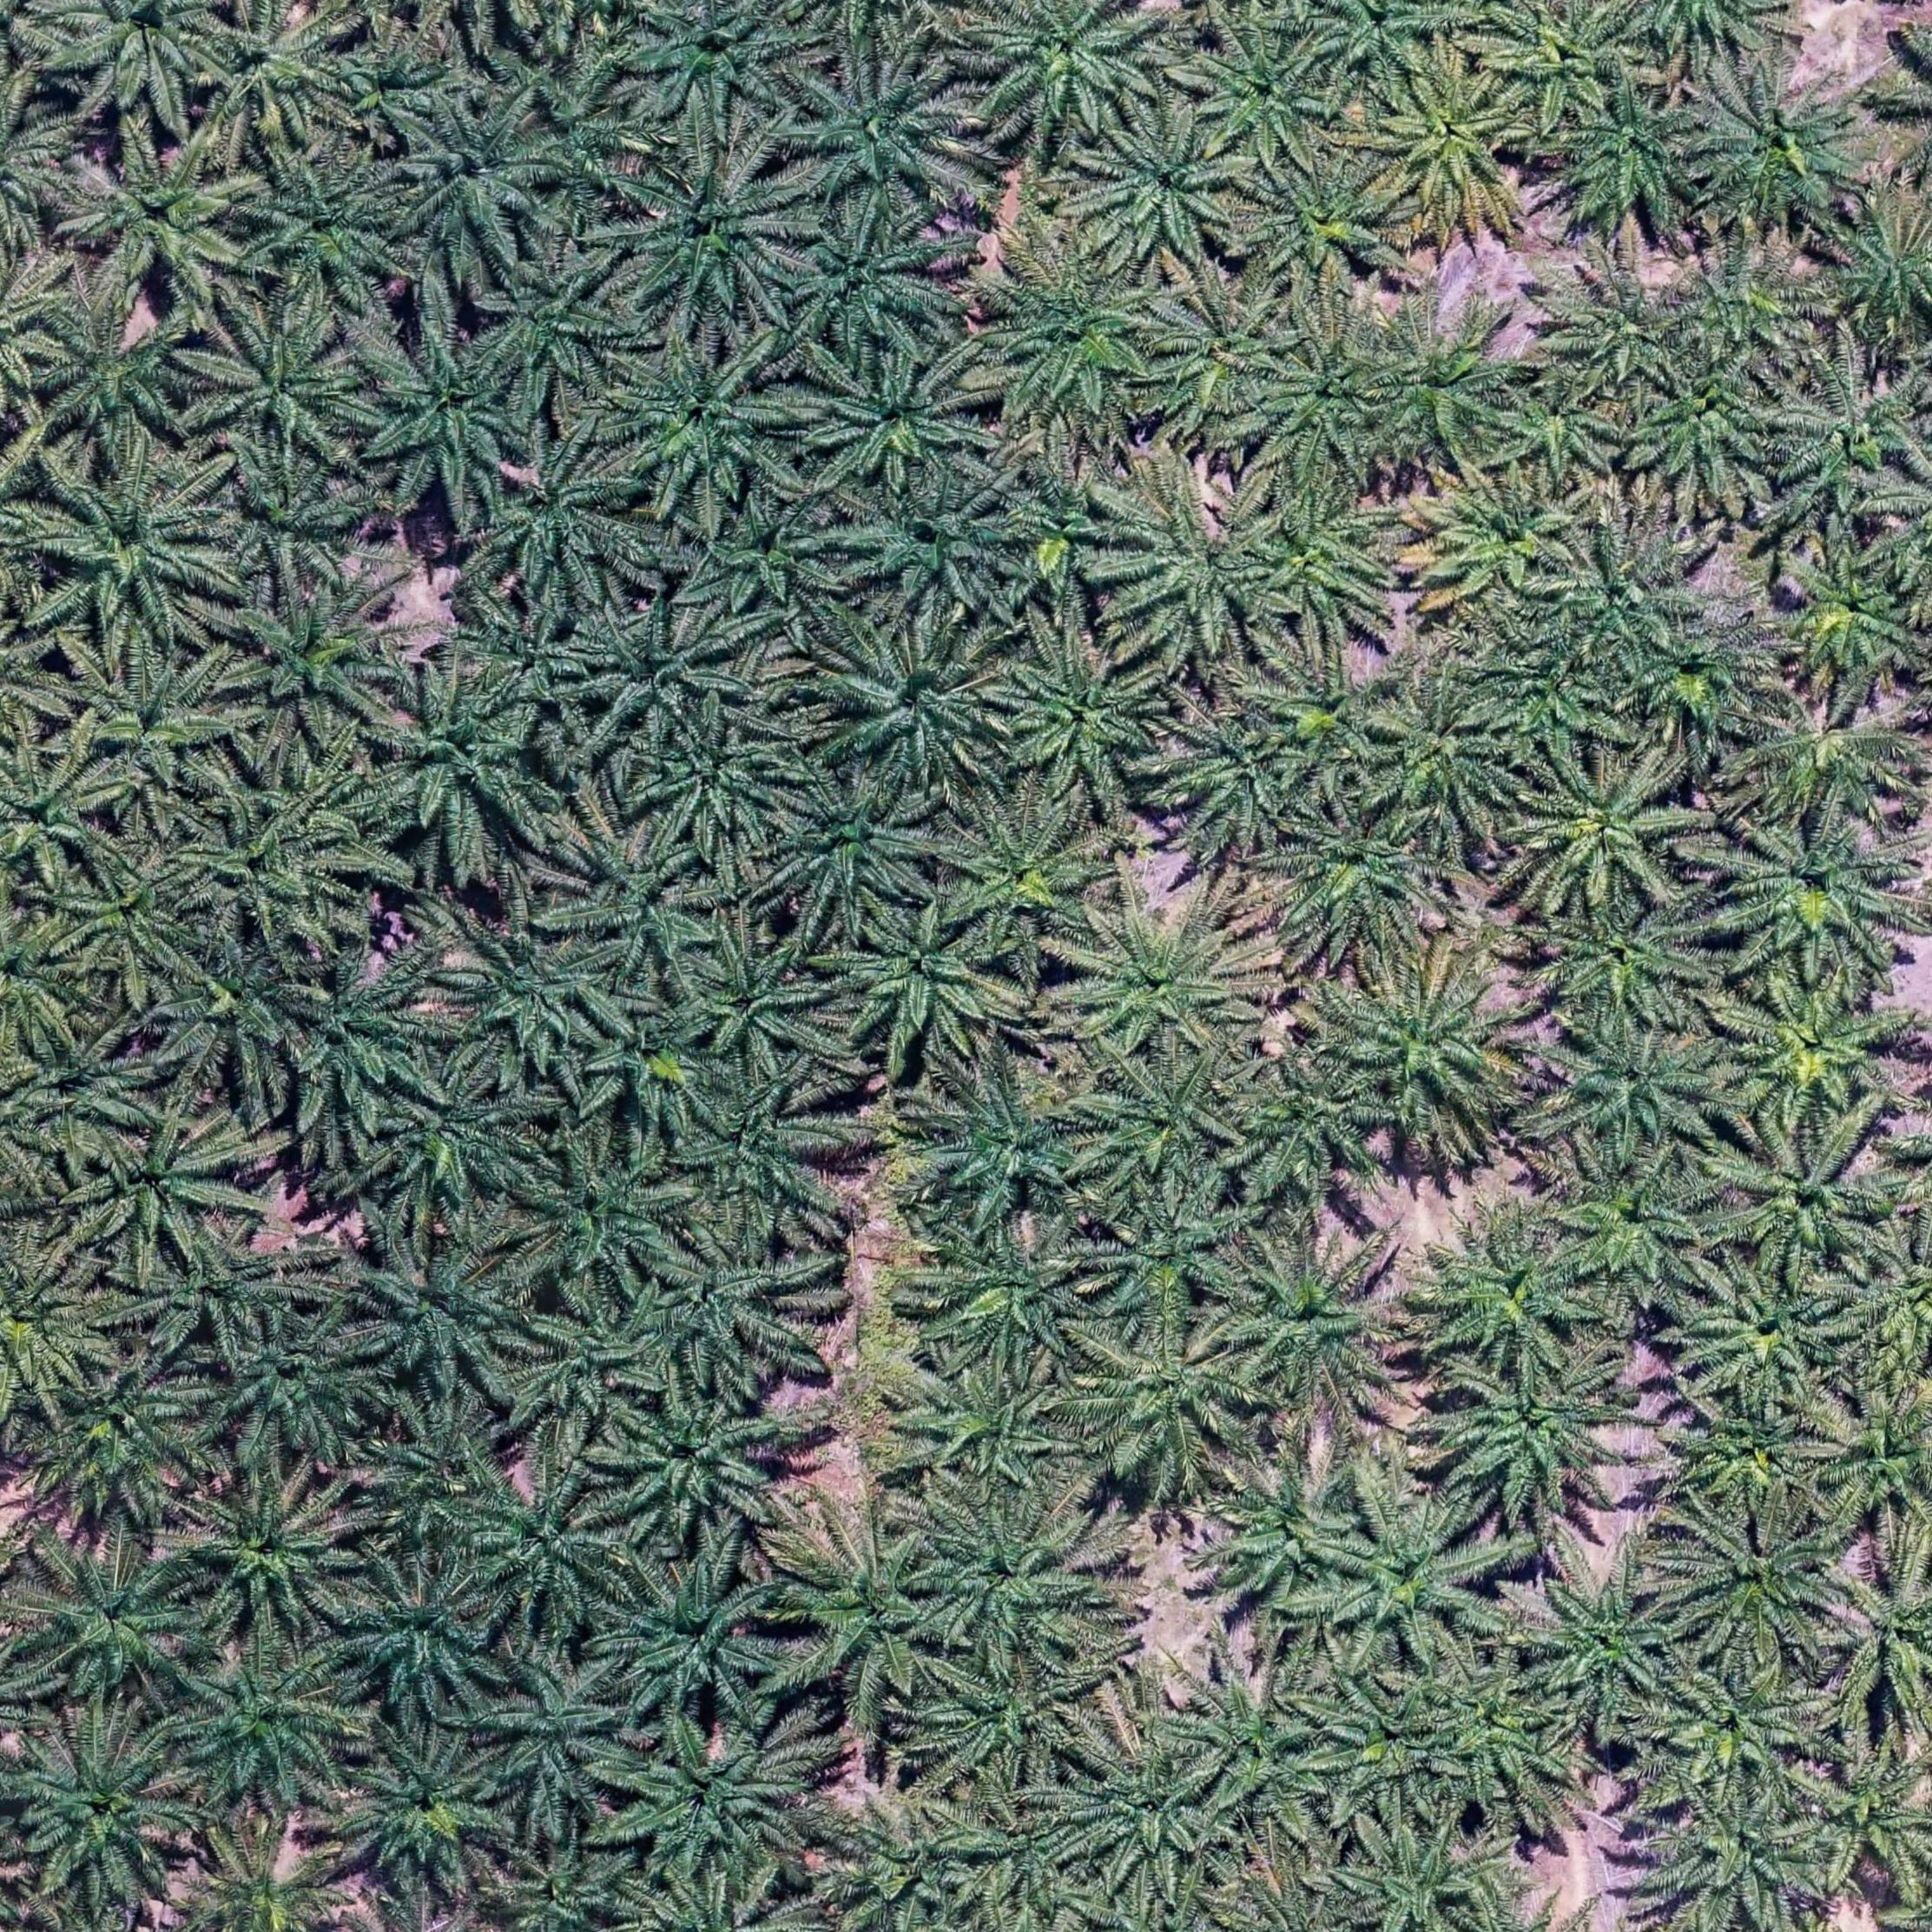palmtree: (1323, 959, 1530, 1143), (186, 766, 384, 954), (980, 241, 1177, 428), (35, 460, 234, 642), (62, 133, 260, 313), (11, 1721, 202, 1905), (368, 669, 557, 853), (623, 1714, 819, 1891), (1219, 1231, 1410, 1408), (1720, 809, 1918, 978), (356, 324, 538, 506), (1104, 471, 1288, 651), (1690, 58, 1881, 232), (623, 149, 810, 322), (777, 1520, 950, 1707), (984, 444, 1157, 632), (1417, 1208, 1605, 1380), (221, 570, 412, 738), (1440, 1350, 1633, 1516), (1516, 748, 1702, 920), (1072, 1320, 1260, 1490), (1074, 897, 1265, 1062), (172, 1637, 356, 1806), (830, 625, 1017, 791), (617, 341, 805, 506), (1720, 973, 1911, 1134), (1325, 1493, 1504, 1665), (916, 1497, 1104, 1660), (336, 1725, 515, 1895), (186, 1470, 366, 1638), (1357, 295, 1534, 465), (241, 143, 419, 311), (202, 303, 382, 469), (1720, 1115, 1900, 1281), (602, 1555, 782, 1721), (25, 1537, 207, 1702), (354, 1235, 540, 1396), (610, 1389, 800, 1546), (32, 1348, 211, 1514), (787, 53, 973, 211), (386, 99, 557, 269), (1677, 1507, 1856, 1670), (65, 648, 246, 809), (840, 901, 1019, 1062), (916, 1069, 1095, 1230), (203, 1307, 389, 1461), (1686, 1261, 1863, 1421), (556, 812, 722, 980), (474, 433, 639, 603), (1001, 637, 1173, 800), (1767, 363, 1930, 534), (35, 292, 209, 453), (676, 1069, 849, 1226), (971, 0, 1171, 136), (69, 1111, 248, 1263), (1242, 478, 1407, 642), (1178, 1663, 1341, 1829), (655, 1221, 824, 1380), (1276, 800, 1449, 955), (1536, 892, 1716, 1040), (1548, 1150, 1721, 1304), (1624, 349, 1792, 506), (1545, 1019, 1727, 1164), (1359, 674, 1523, 833), (1085, 115, 1253, 271), (1654, 1654, 1826, 1806), (1375, 64, 1537, 223), (288, 957, 446, 1122), (462, 1467, 630, 1621), (1647, 1785, 1828, 1928), (934, 1223, 1106, 1373), (448, 920, 621, 1069), (851, 471, 1026, 617), (1210, 1449, 1373, 1606), (1525, 1555, 1693, 1707), (189, 0, 359, 150), (1744, 685, 1920, 830), (478, 1654, 637, 1813), (786, 211, 955, 359), (805, 349, 982, 490), (947, 798, 1113, 948), (1224, 1054, 1391, 1205), (1086, 1187, 1254, 1336), (156, 938, 318, 1090), (773, 775, 939, 924), (382, 1056, 541, 1210), (343, 1559, 508, 1707), (1242, 152, 1407, 299), (525, 1139, 692, 1284), (1074, 1739, 1235, 1888), (909, 1359, 1077, 1500), (1553, 80, 1709, 232), (1617, 607, 1785, 747), (1244, 331, 1398, 483), (1417, 1656, 1569, 1810), (1771, 543, 1927, 694), (1090, 1049, 1251, 1194), (46, 0, 234, 124), (575, 603, 741, 741), (1543, 522, 1706, 662), (922, 1656, 1090, 1790), (633, 0, 810, 127), (1424, 469, 1591, 603), (483, 249, 633, 396), (642, 718, 807, 851), (366, 1405, 513, 1553), (1307, 1679, 1460, 1822), (212, 460, 375, 593), (62, 847, 214, 989), (1667, 237, 1828, 370), (1194, 28, 1346, 166), (1148, 283, 1293, 426), (678, 938, 832, 1072), (1169, 711, 1320, 847), (16, 1019, 163, 1154), (1803, 1739, 1932, 1890), (816, 1812, 977, 1932), (515, 1299, 656, 1435), (1550, 264, 1695, 395), (1495, 0, 1649, 122), (182, 1826, 359, 1932), (1810, 1385, 1932, 1537), (1261, 649, 1408, 775), (0, 1249, 113, 1410), (586, 1005, 725, 1134), (1677, 1399, 1824, 1522), (701, 499, 851, 617), (456, 594, 602, 717), (1826, 1555, 1932, 1721), (0, 748, 120, 890), (517, 55, 648, 182), (1343, 1824, 1491, 1932), (481, 1838, 646, 1932), (959, 1805, 1099, 1913), (1836, 1221, 1932, 1378), (1488, 653, 1622, 763), (1499, 373, 1631, 483), (338, 35, 460, 149), (1833, 205, 1932, 343), (575, 893, 722, 985), (0, 902, 90, 1047)
